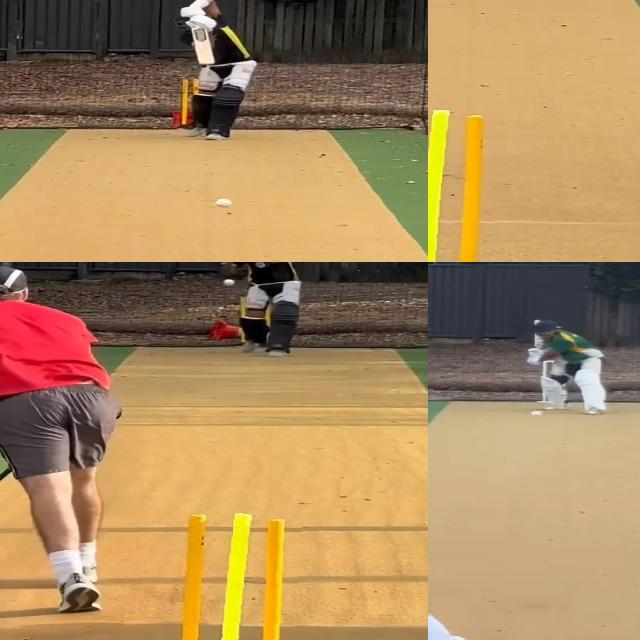Cricket ball: (214, 197, 234, 209), (528, 409, 547, 419), (222, 278, 238, 286)
Stumps: (175, 511, 303, 640), (428, 106, 503, 262)
